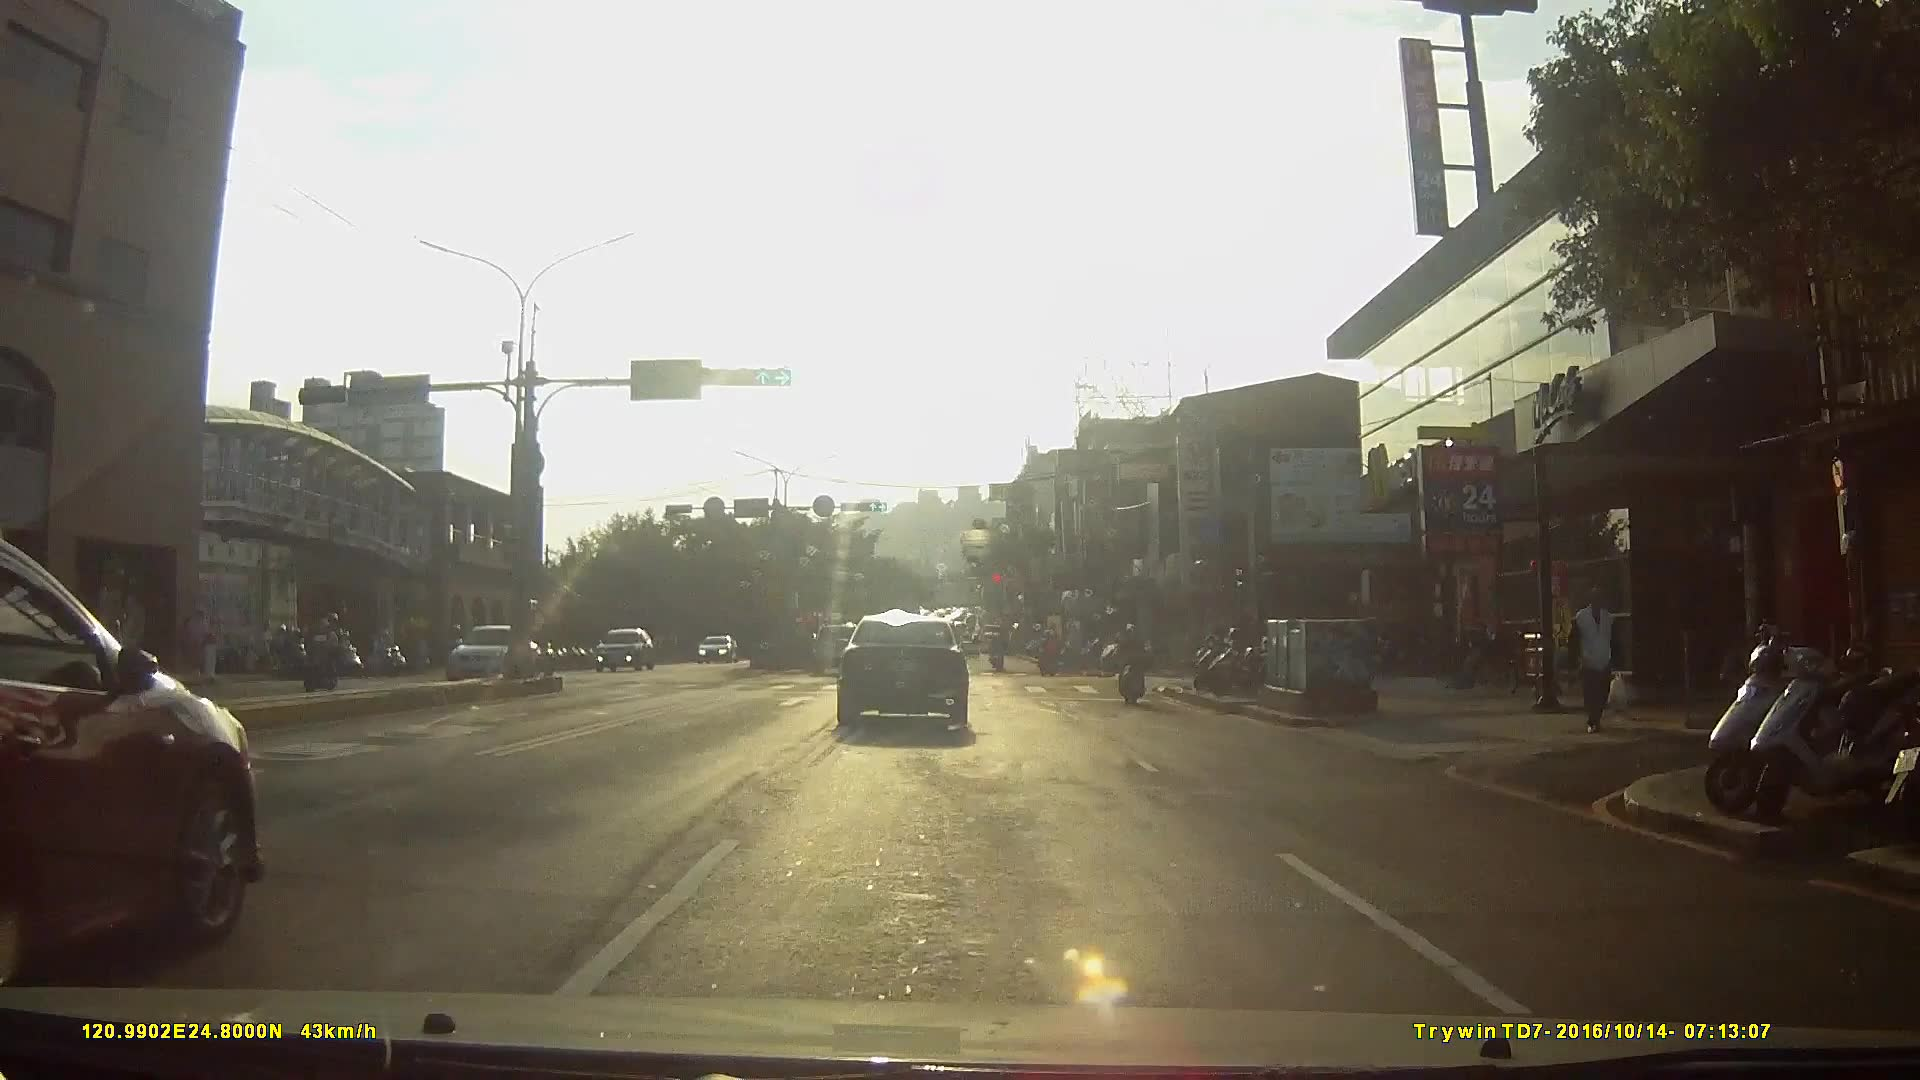pedestrian: (1565, 583, 1623, 733)
rider: (295, 614, 343, 699), (1115, 619, 1150, 706), (320, 628, 365, 683), (1038, 630, 1066, 679), (988, 635, 1008, 675)
vehicle: (1, 542, 272, 995), (835, 609, 987, 735), (444, 621, 548, 692), (594, 625, 657, 675), (813, 622, 872, 677), (695, 632, 742, 665)
